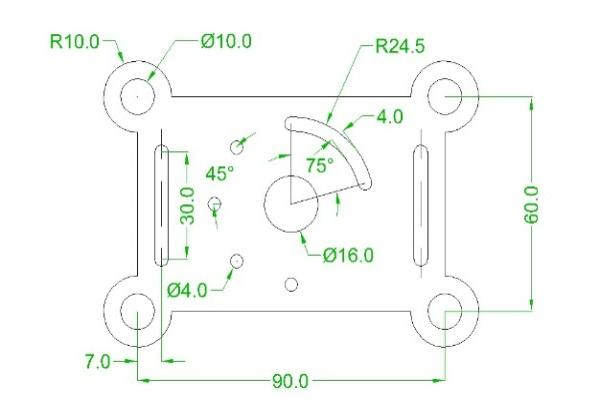dimensions: (166, 181, 208, 239), (368, 31, 432, 62), (154, 274, 214, 305), (318, 240, 380, 268), (44, 28, 102, 54), (198, 28, 257, 52), (519, 181, 546, 228), (298, 146, 334, 178), (269, 368, 316, 392), (198, 162, 241, 186), (373, 104, 408, 133), (82, 351, 117, 373)
